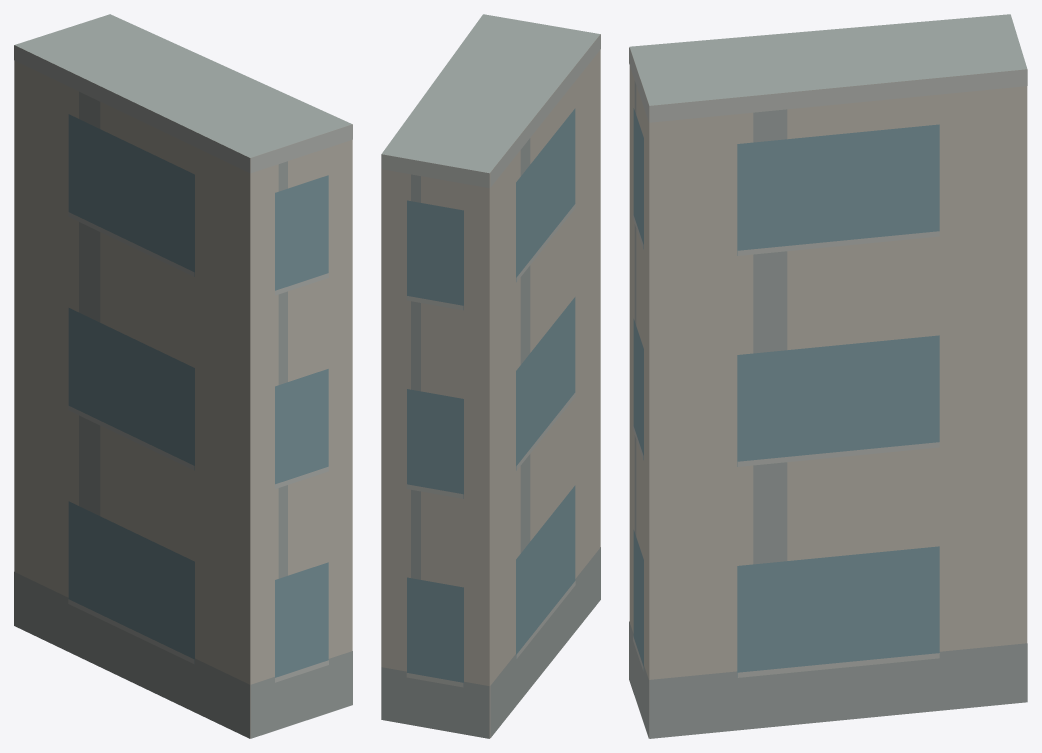
File: survey-upis-33023342.glb
The picture shows the model from 3 angles, left to right: view 1: azimuth 30°, elevation 25°; view 2: azimuth 150°, elevation 25°; view 3: azimuth 270°, elevation 25°; orthographic projection. The views are drawn at different scales.
Visible parts, largest first — view 1: survey-upis-33023342.tmp; view 2: survey-upis-33023342.tmp; view 3: survey-upis-33023342.tmp.
Part boxes in pixels (<box>): survey-upis-33023342.tmp: <box>14,14,352,738</box>; survey-upis-33023342.tmp: <box>381,14,600,738</box>; survey-upis-33023342.tmp: <box>629,14,1027,738</box>.
Size of the model in its own units: 2.86 by 9.15 by 5.23.
